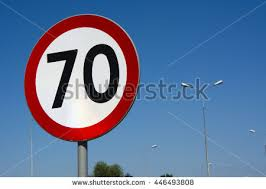Speed_limit_70km: (24, 15, 141, 141)
